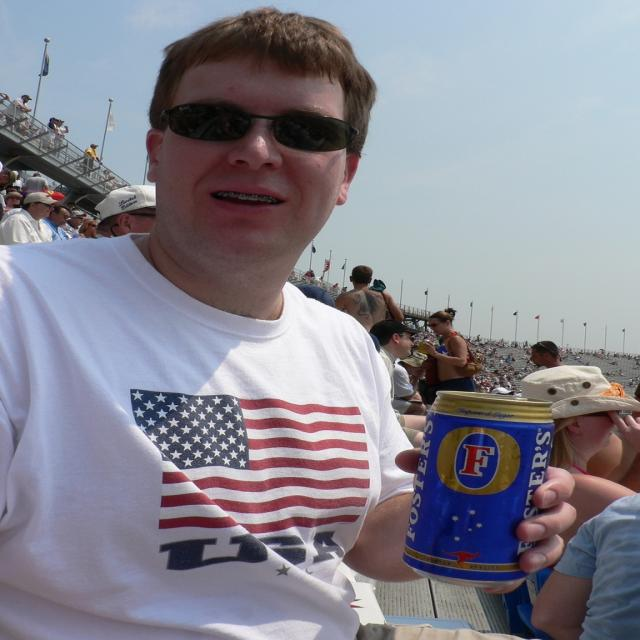fosters: (435, 426, 525, 499)
